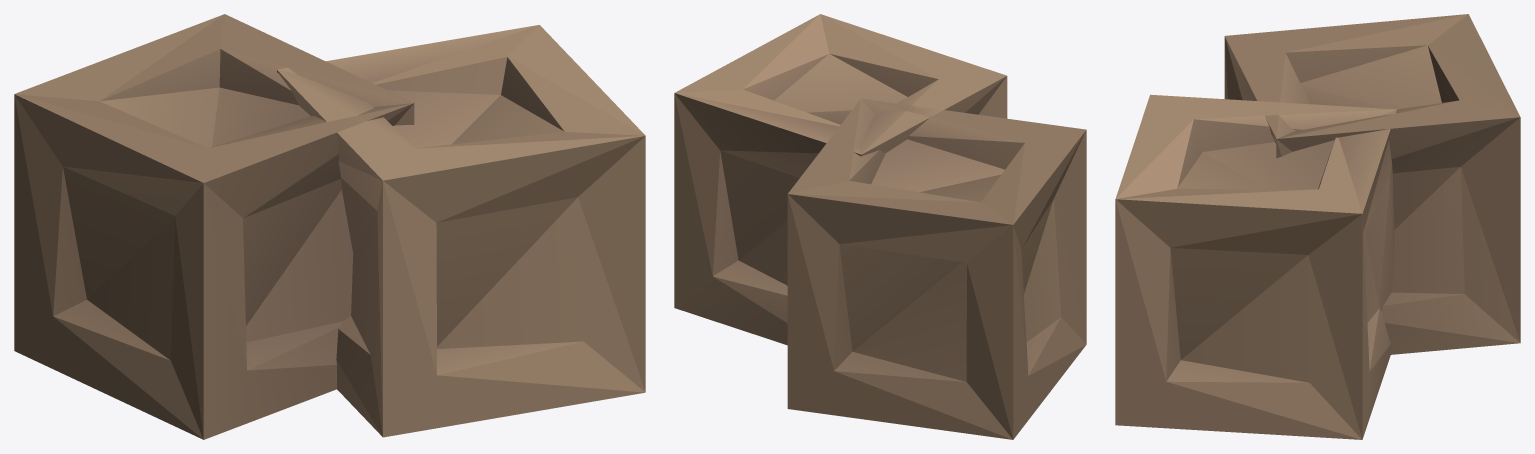
The model's file is sloop.cargo.glb.
3 renders of one model, left to right at view 1: azimuth 30°, elevation 25°; view 2: azimuth 150°, elevation 25°; view 3: azimuth 270°, elevation 25°, orthographic. The views are drawn at different scales.
Visible parts, largest first — view 1: sloop; view 2: sloop; view 3: sloop.
Part boxes in pixels (x1,y1,x2,y2): sloop: (14, 14, 645, 439); sloop: (674, 14, 1086, 439); sloop: (1115, 14, 1520, 439).
Bounding box in the file's own units: 0.4882 × 0.2576 × 0.4182.
